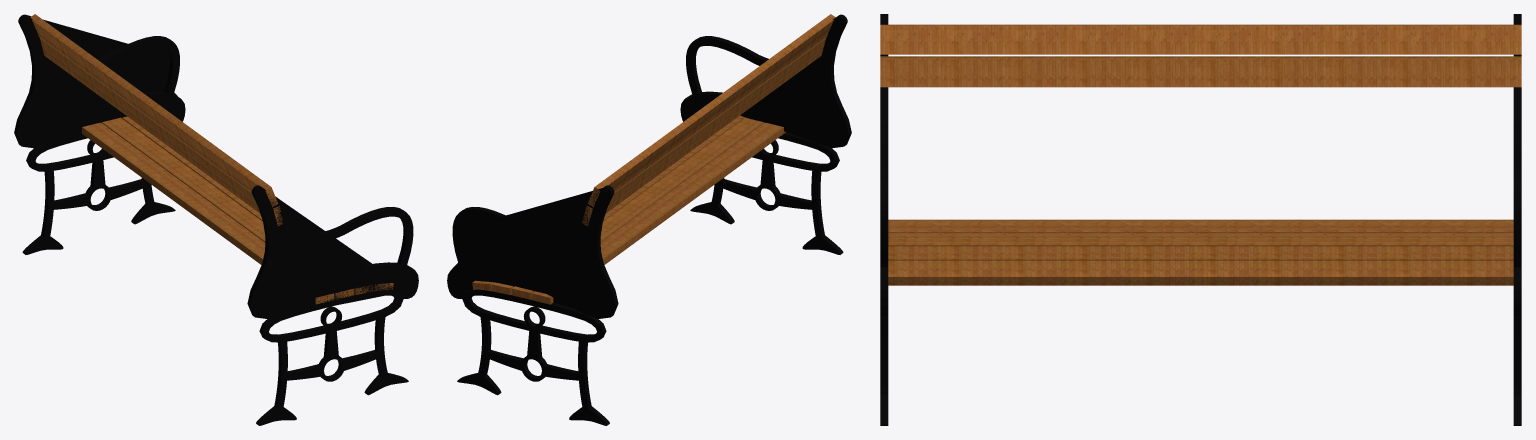
The picture shows the model from 3 angles, left to right: view 1: azimuth 30°, elevation 25°; view 2: azimuth 150°, elevation 25°; view 3: azimuth 270°, elevation 25°; orthographic projection. The views are drawn at different scales.
Parts seen in each view (by area): view 1: Mesh7 skpE9FB1 Component1 Model, Mesh8 skpE9FB1 Component1 Model, Mesh5 skpE9FB1 Component1 Model, Mesh2 skpE9FB1 Component1 Model, Mesh6 skpE9FB1 Component1 Model, Mesh1 skpE9FB1 Component1 Model, Mesh3 skpE9FB1 Component1 Model; view 2: Mesh8 skpE9FB1 Component1 Model, Mesh7 skpE9FB1 Component1 Model, Mesh5 skpE9FB1 Component1 Model, Mesh2 skpE9FB1 Component1 Model, Mesh6 skpE9FB1 Component1 Model, Mesh1 skpE9FB1 Component1 Model, Mesh3 skpE9FB1 Component1 Model; view 3: Mesh6 skpE9FB1 Component1 Model, Mesh5 skpE9FB1 Component1 Model, Mesh4 skpE9FB1 Component1 Model, Mesh1 skpE9FB1 Component1 Model, Mesh3 skpE9FB1 Component1 Model, Mesh2 skpE9FB1 Component1 Model, Mesh7 skpE9FB1 Component1 Model, Mesh8 skpE9FB1 Component1 Model.
Boxes of the visible parts, box(x1,y1,x2,y2) form: Mesh7 skpE9FB1 Component1 Model: box(247, 185, 418, 425); Mesh8 skpE9FB1 Component1 Model: box(14, 14, 185, 254); Mesh5 skpE9FB1 Component1 Model: box(30, 14, 277, 207); Mesh2 skpE9FB1 Component1 Model: box(82, 122, 334, 304); Mesh6 skpE9FB1 Component1 Model: box(40, 38, 282, 226); Mesh1 skpE9FB1 Component1 Model: box(102, 117, 354, 299); Mesh3 skpE9FB1 Component1 Model: box(122, 116, 373, 294); Mesh8 skpE9FB1 Component1 Model: box(447, 185, 618, 425); Mesh7 skpE9FB1 Component1 Model: box(680, 14, 851, 254); Mesh5 skpE9FB1 Component1 Model: box(588, 14, 835, 207); Mesh2 skpE9FB1 Component1 Model: box(531, 122, 785, 304); Mesh6 skpE9FB1 Component1 Model: box(582, 38, 825, 225); Mesh1 skpE9FB1 Component1 Model: box(511, 117, 763, 299); Mesh3 skpE9FB1 Component1 Model: box(491, 115, 744, 295); Mesh6 skpE9FB1 Component1 Model: box(880, 56, 1521, 87); Mesh5 skpE9FB1 Component1 Model: box(880, 24, 1521, 54); Mesh4 skpE9FB1 Component1 Model: box(888, 260, 1513, 285); Mesh1 skpE9FB1 Component1 Model: box(888, 232, 1513, 246); Mesh3 skpE9FB1 Component1 Model: box(888, 246, 1513, 260); Mesh2 skpE9FB1 Component1 Model: box(888, 219, 1513, 232); Mesh7 skpE9FB1 Component1 Model: box(880, 14, 888, 425); Mesh8 skpE9FB1 Component1 Model: box(1513, 14, 1521, 425).
Bounding box in the file's own units: 2.51 × 3.43 × 6.1.
Materials: 4 (3 with a texture image).
